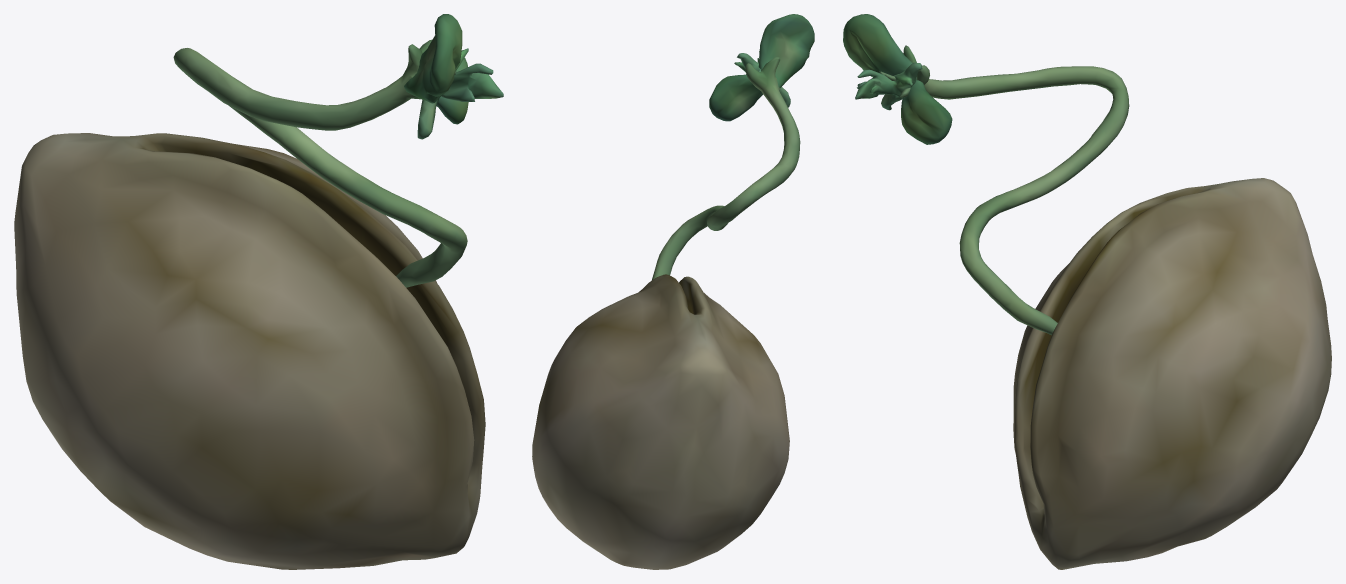
File: seed.glb
3 renders of one model, left to right at view 1: azimuth 30°, elevation 25°; view 2: azimuth 150°, elevation 25°; view 3: azimuth 270°, elevation 25°, orthographic. The views are drawn at different scales.
Parts seen in each view (by area): view 1: Layer_1__0, Layer_5__0; view 2: Layer_1__0, Layer_5__0; view 3: Layer_1__0, Layer_5__0.
Part boxes in pixels (x1,y1,x2,y2): Layer_1__0: [14, 133, 485, 569]; Layer_5__0: [173, 14, 503, 287]; Layer_1__0: [532, 274, 789, 569]; Layer_5__0: [651, 14, 814, 280]; Layer_1__0: [1013, 178, 1331, 569]; Layer_5__0: [843, 14, 1129, 335].
Size of the model in its own units: 3 by 5.4 by 4.64.
